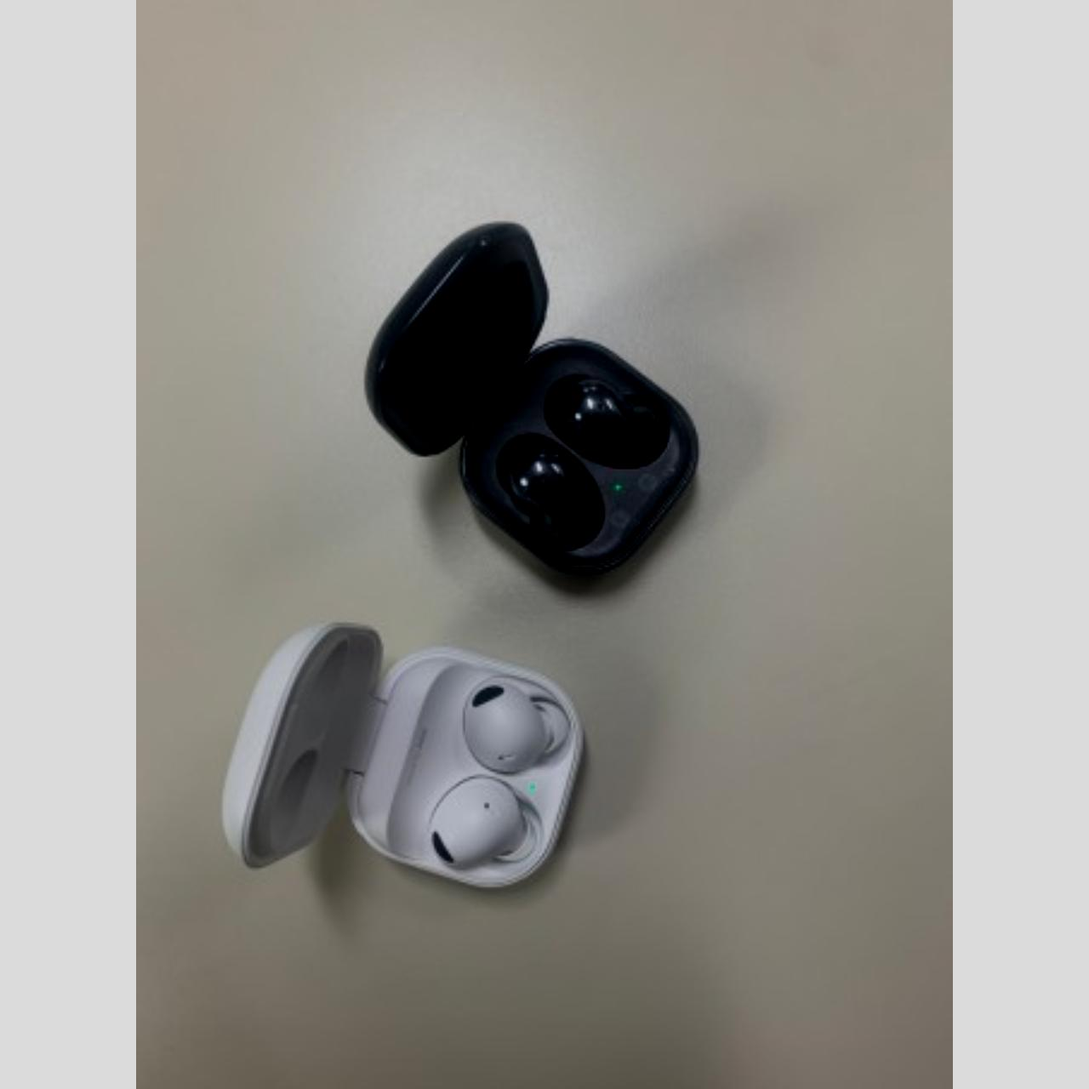Buds: (359, 219, 711, 595), (213, 611, 589, 901)
Buds_Units: (491, 429, 608, 553), (545, 365, 675, 473), (425, 774, 552, 873), (459, 676, 574, 778)
